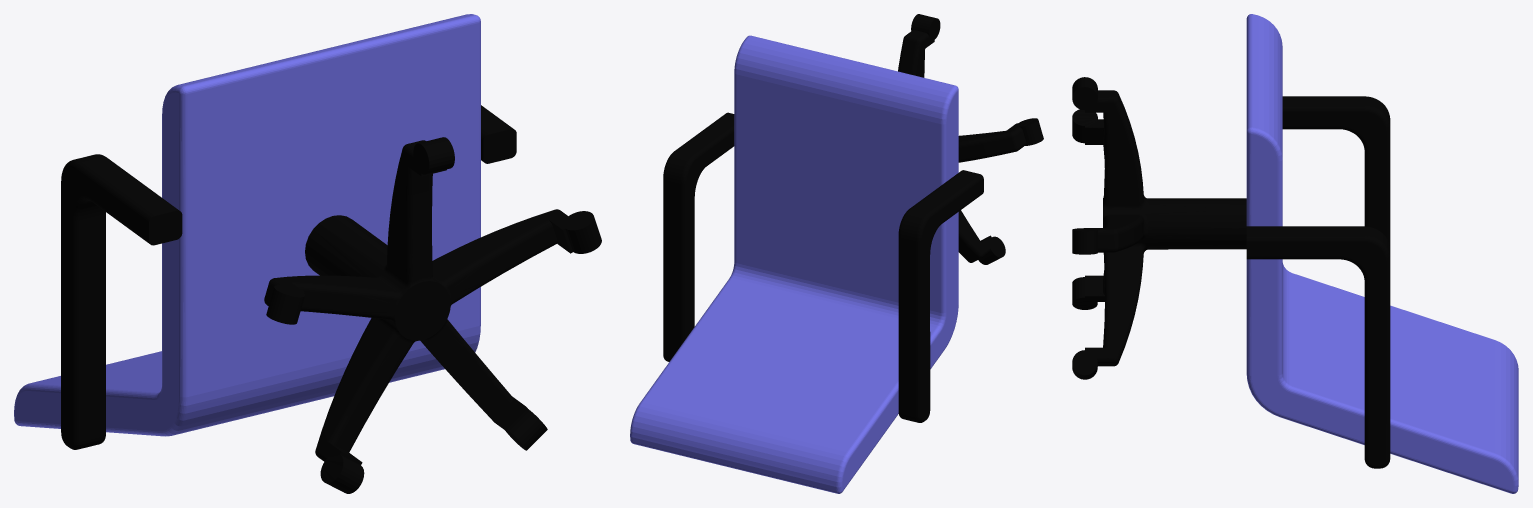
The model's file is chairrotable.dae.
The picture shows the model from 3 angles, left to right: view 1: azimuth 30°, elevation 25°; view 2: azimuth 150°, elevation 25°; view 3: azimuth 270°, elevation 25°; orthographic projection. The views are drawn at different scales.
Visible parts, largest first — view 1: ShapeIndexedFaceSet_001, ShapeIndexedFaceSet, ShapeIndexedFaceSet_002, ShapeIndexedFaceSet_003; view 2: ShapeIndexedFaceSet_001, ShapeIndexedFaceSet_002, ShapeIndexedFaceSet_003, ShapeIndexedFaceSet; view 3: ShapeIndexedFaceSet_001, ShapeIndexedFaceSet, ShapeIndexedFaceSet_003, ShapeIndexedFaceSet_002.
Boxes of the visible parts, x1=… form: ShapeIndexedFaceSet_001: x1=14, y1=14, x2=480, y2=436; ShapeIndexedFaceSet: x1=264, y1=137, x2=601, y2=493; ShapeIndexedFaceSet_002: x1=61, y1=154, x2=182, y2=449; ShapeIndexedFaceSet_003: x1=481, y1=105, x2=516, y2=163; ShapeIndexedFaceSet_001: x1=630, y1=35, x2=958, y2=493; ShapeIndexedFaceSet_002: x1=898, y1=170, x2=983, y2=422; ShapeIndexedFaceSet_003: x1=663, y1=112, x2=734, y2=361; ShapeIndexedFaceSet: x1=898, y1=14, x2=1043, y2=264; ShapeIndexedFaceSet_001: x1=1246, y1=14, x2=1518, y2=493; ShapeIndexedFaceSet: x1=1072, y1=77, x2=1246, y2=379; ShapeIndexedFaceSet_003: x1=1246, y1=226, x2=1390, y2=468; ShapeIndexedFaceSet_002: x1=1282, y1=96, x2=1390, y2=247.
Size of the model in its own units: 0.66 by 0.8704 by 0.7877.
